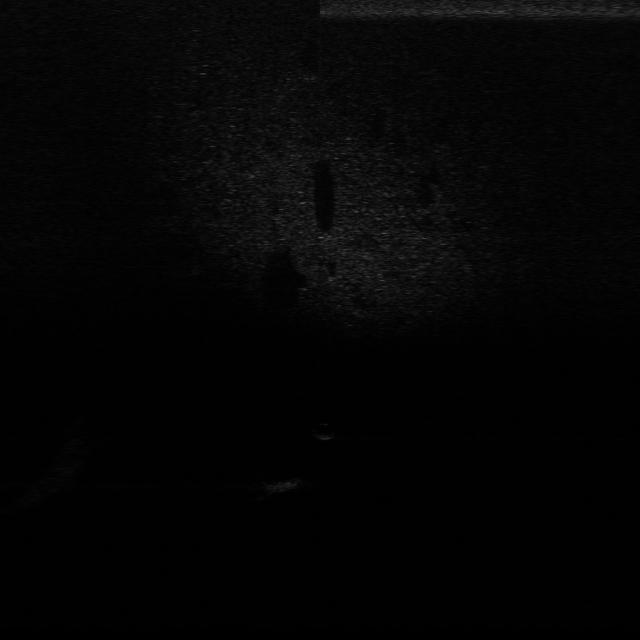ball: (312, 418, 341, 440)
square cage: (260, 473, 308, 495)
